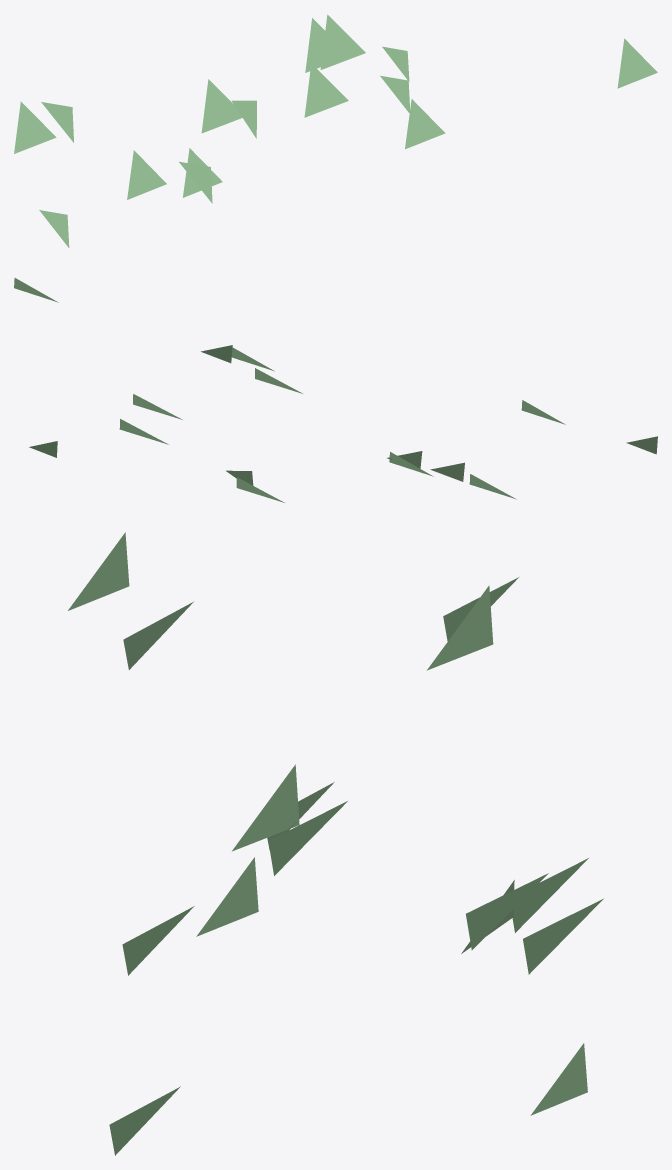
Rendered from xiyuan-vegetation-02-far.glb.
3 views of the same model, one above another, from view 1: azimuth 30°, elevation 25°; view 2: azimuth 150°, elevation 25°; view 3: azimuth 270°, elevation 25° (orthographic). The views are drawn at different scales.
Parts seen in each view (by area): view 1: scalloped lotus leaves.001; view 2: scalloped lotus leaves.001; view 3: scalloped lotus leaves.001.
Boxes of the visible parts, x1,y1,x2,y2 form: scalloped lotus leaves.001: (14,14,657,247); scalloped lotus leaves.001: (14,278,657,502); scalloped lotus leaves.001: (68,532,603,1155).
Bounding box in the file's own units: 10.95 × 1.53 × 4.13.
